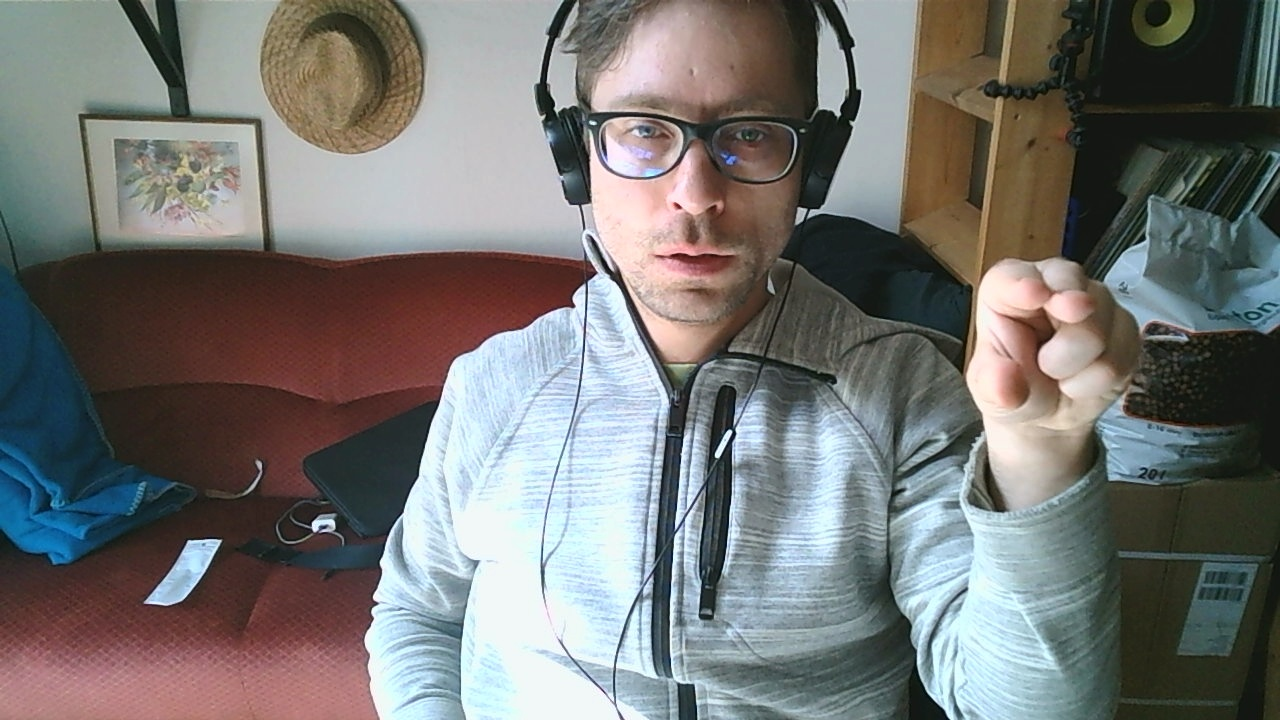no: (962, 258, 1145, 444)
